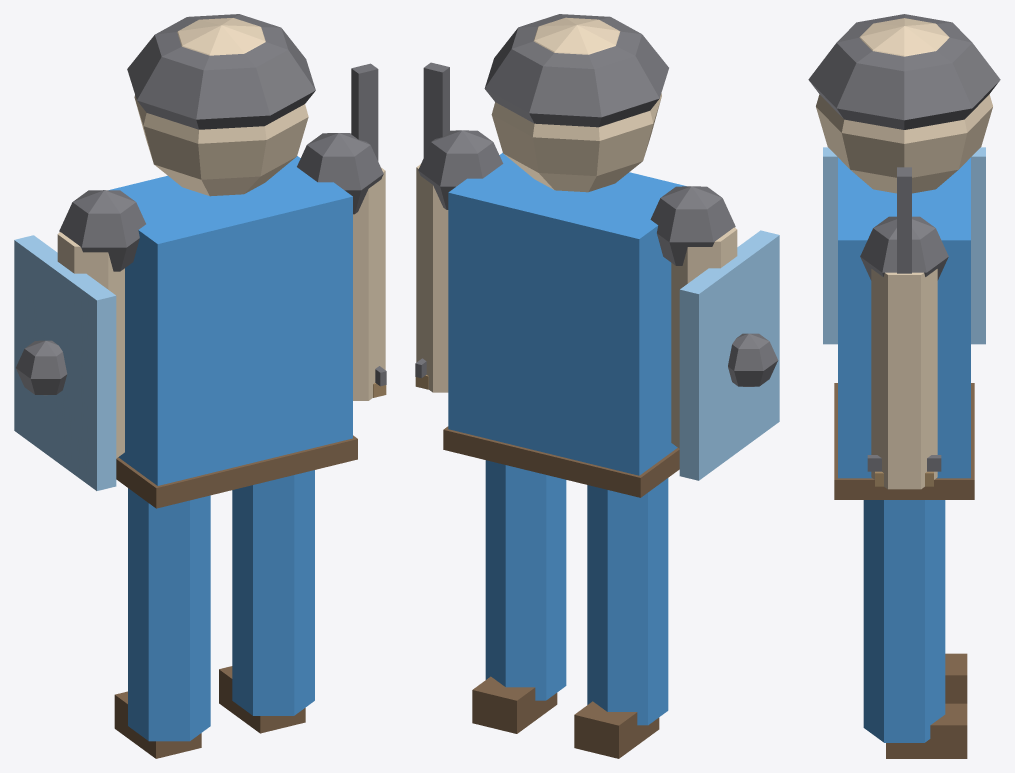
Rendered from infantry_blue.glb.
The picture shows the model from 3 angles, left to right: view 1: azimuth 30°, elevation 25°; view 2: azimuth 150°, elevation 25°; view 3: azimuth 270°, elevation 25°; orthographic projection. The views are drawn at different scales.
Visible parts, largest first — view 1: Infantry_blue; view 2: Infantry_blue; view 3: Infantry_blue.
Part boxes in pixels (bbox=[...]): Infantry_blue: bbox=[14, 14, 386, 758]; Infantry_blue: bbox=[415, 14, 779, 758]; Infantry_blue: bbox=[808, 14, 1000, 758].
Bounding box in the file's own units: 0.5436 × 1.04 × 0.26.
